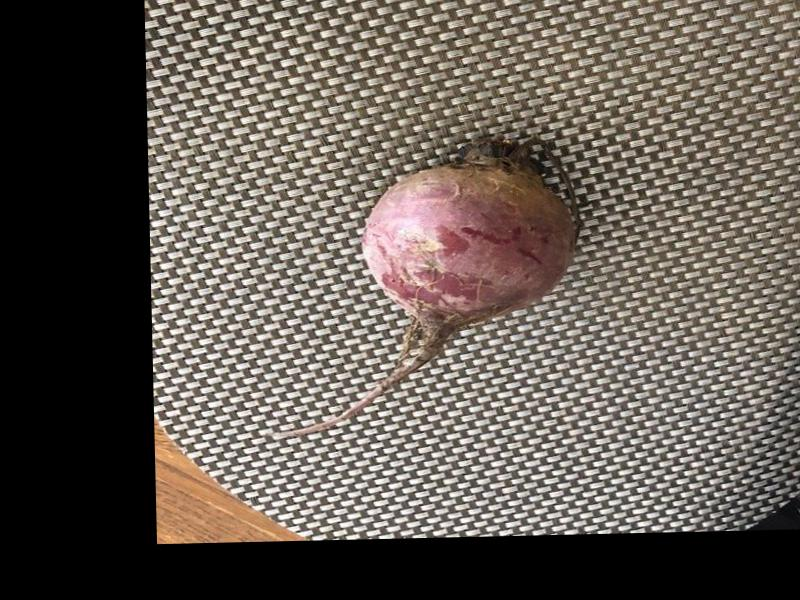Beet: (265, 133, 582, 439)
